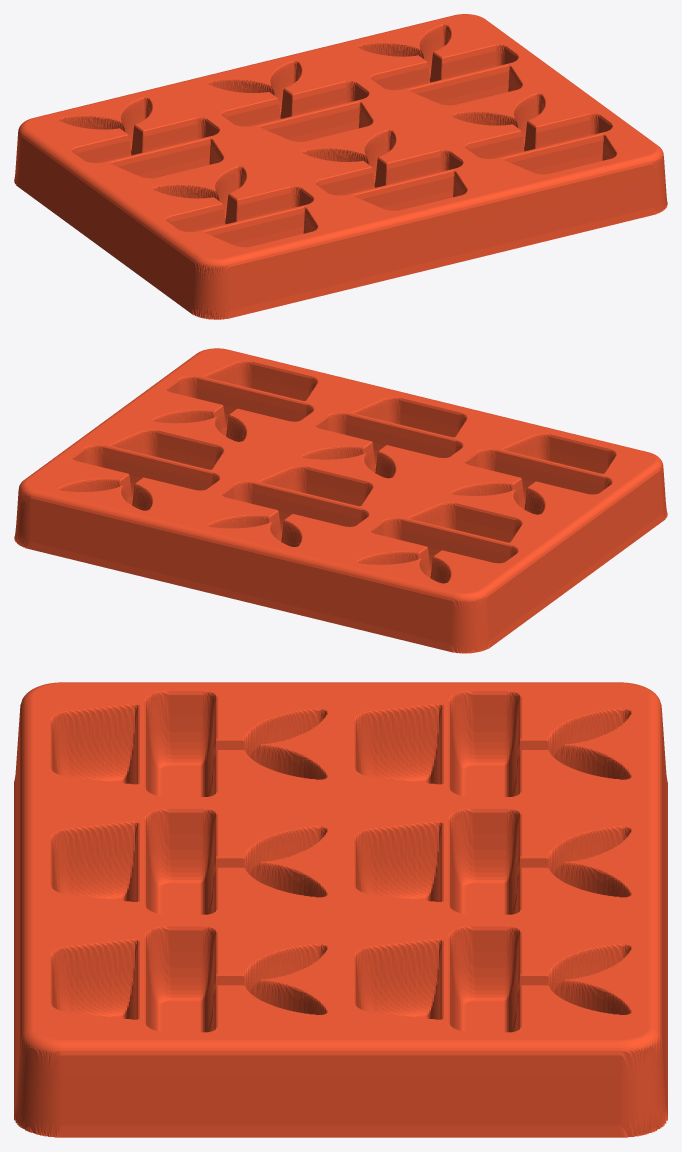
The model's file is mold.glb.
The picture shows the model from 3 angles, top to bottom: view 1: azimuth 30°, elevation 25°; view 2: azimuth 150°, elevation 25°; view 3: azimuth 270°, elevation 25°; orthographic projection. The views are drawn at different scales.
Visible parts, largest first — view 1: geometry_0; view 2: geometry_0; view 3: geometry_0.
Boxes of the visible parts, x1,y1,x2,y2 form: geometry_0: [14, 14, 667, 319]; geometry_0: [14, 348, 667, 653]; geometry_0: [14, 682, 667, 1137].
Size of the model in its own units: 0.1648 by 0.0185 by 0.1222.
